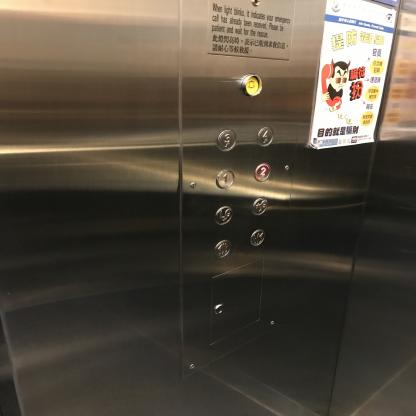1: (214, 168, 235, 190)
2: (254, 162, 271, 182)
3: (216, 128, 237, 152)
4: (256, 126, 274, 147)
LG: (214, 206, 232, 225)
alarm: (240, 73, 263, 97)
close: (249, 228, 265, 247)
open: (213, 240, 231, 258)
sG: (250, 196, 268, 215)
